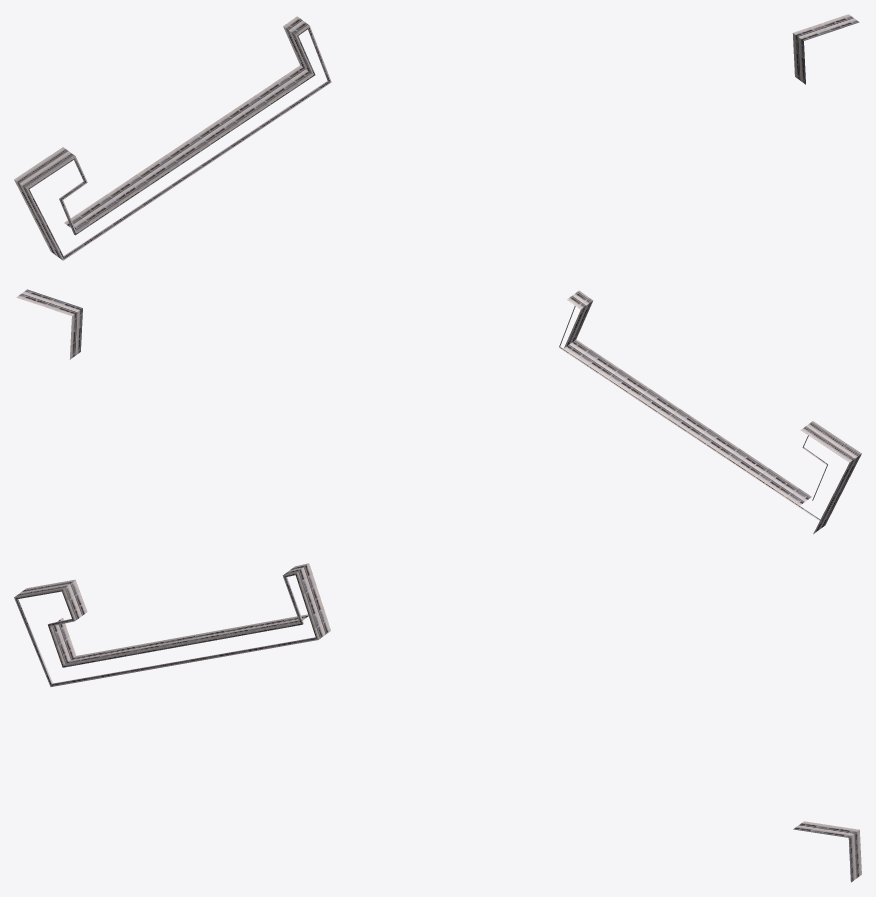
The model's file is tile_facade_327.glb.
3 renders of one model, top to bottom at view 1: azimuth 30°, elevation 25°; view 2: azimuth 150°, elevation 25°; view 3: azimuth 330°, elevation 25°, orthographic.
Bounding box in the file's own units: 347 × 72.08 × 9.
Materials: 1 (1 with a texture image).
